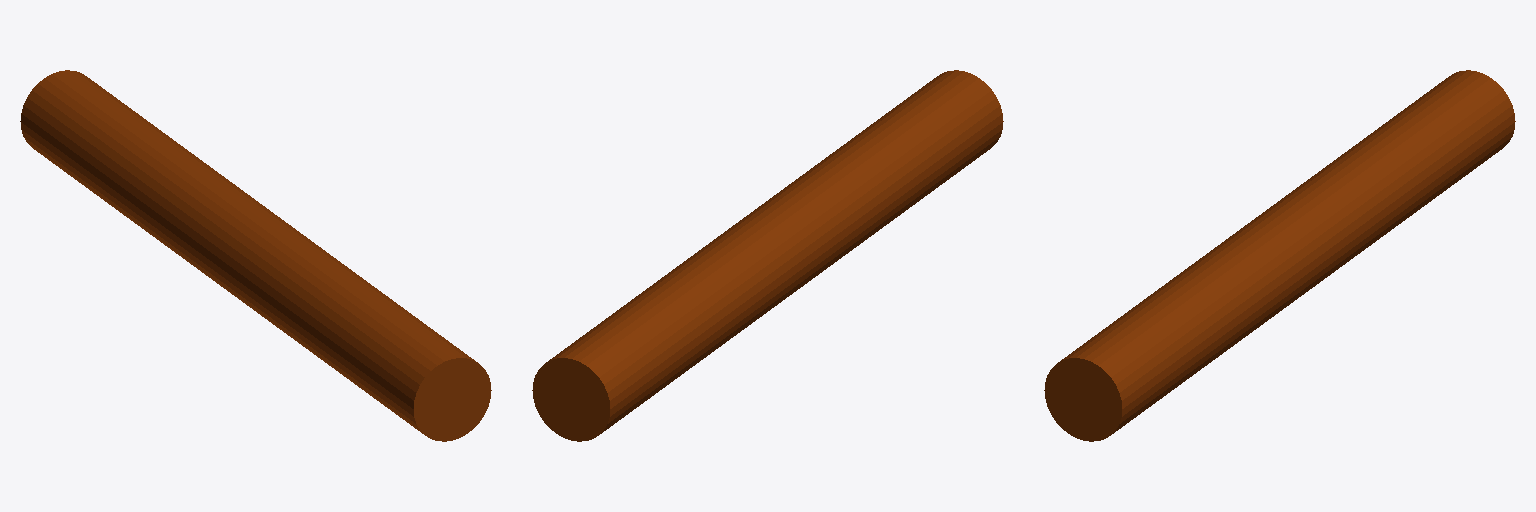
URDF robot description (cylinder):
<?xml version="1.0" ?>
<!-- =================================================================================== -->
<!-- |    This document was autogenerated by xacro from cylinder.xacro                 | -->
<!-- |    EDITING THIS FILE BY HAND IS NOT RECOMMENDED                                 | -->
<!-- =================================================================================== -->
<robot name="cylinder">
  <link name="world"/>
  <link name="base">
    <visual>
      <origin rpy="1.57079633 0 0" xyz="0 0 0"/>
      <geometry>
        <cylinder length="7.07106781185" radius="0.405"/>
      </geometry>
      <material name="cylinder_material">
        <color rgba="0.545 0.271 0.075 1.0"/>
        <texture filename="../textures/tree_bark.jpg"/>
      </material>
    </visual>
    <collision>
      <origin rpy="1.57079633 0 0" xyz="0 0 0"/>
      <geometry>
        <cylinder length="7.07106781185" radius="0.405"/>
      </geometry>
    </collision>
    <inertial>
      <origin rpy="0 0 0" xyz="0 0 0"/>
      <mass value="1"/>
      <inertia ixx="4.207672916648429" ixy="0.0" ixz="0.0" iyy="4.207672916648429" iyz="0.0" izz="24.999999999890573"/>
    </inertial>
  </link>
  <joint name="base_joint" type="fixed">
    <parent link="world"/>
    <child link="base"/>
    <origin rpy="0 0 0" xyz="0.0 0.0 0.0"/>
  </joint>
</robot>

--- What the picture shows (computed from the rendered views, not written in the file) ---
The picture shows the robot from 3 angles, left to right: view 1: azimuth 30°, elevation 25°; view 2: azimuth 150°, elevation 25°; view 3: azimuth 330°, elevation 25°; orthographic projection.
Model cylinder with 2 links and 1 joints (1 fixed), rooted at world, posed every joint at zero.
Links seen in each view (by area): view 1: base; view 2: base; view 3: base.
Boxes of the visible links, <box> form: base: <box>20,70,491,441</box>; base: <box>532,70,1003,441</box>; base: <box>1044,70,1515,441</box>.
Bounding box of the posed robot: 0.81 × 7.07 × 0.81 m (x, y, z).
Geometry: primitives only (box / cylinder / sphere), no mesh files.
